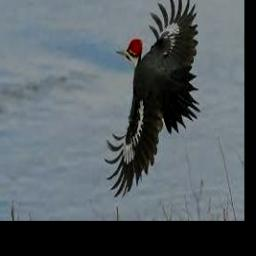Woodpecker: (104, 0, 200, 197)
